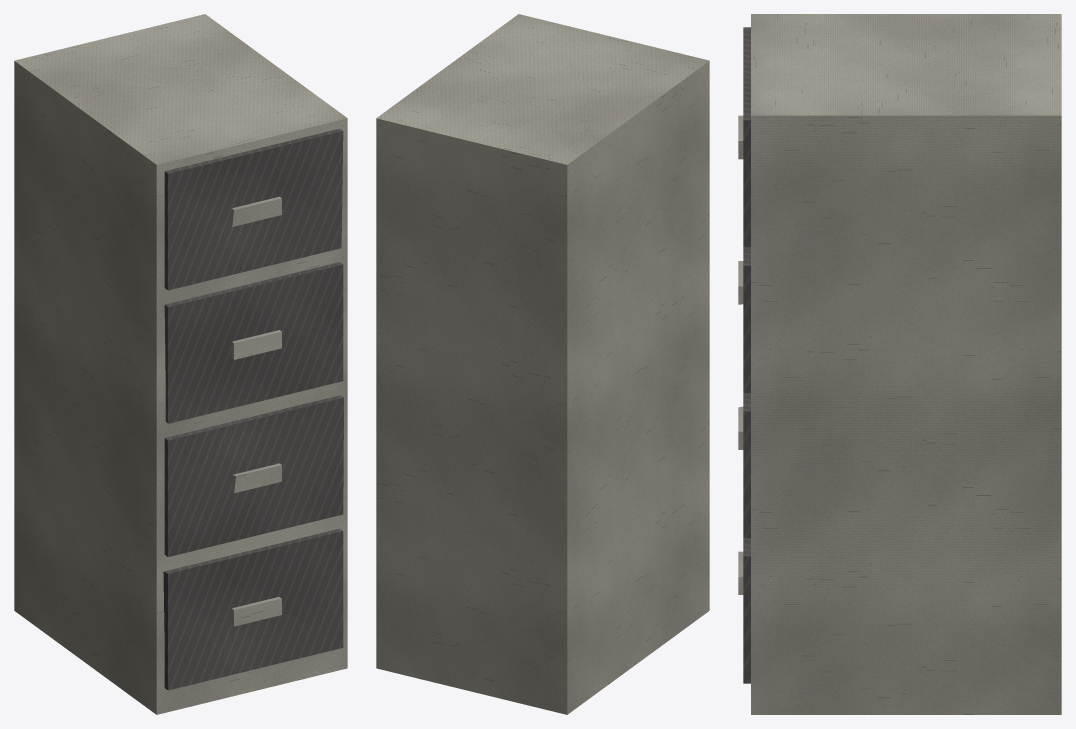
The model's file is cabinet_v2.glb.
The picture shows the model from 3 angles, left to right: view 1: azimuth 30°, elevation 25°; view 2: azimuth 150°, elevation 25°; view 3: azimuth 270°, elevation 25°; orthographic projection. The views are drawn at different scales.
Parts seen in each view (by area): view 1: Variant_cabinet_2; view 2: Variant_cabinet_2; view 3: Variant_cabinet_2.
Boxes of the visible parts, x1=… form: Variant_cabinet_2: x1=14, y1=14, x2=347, y2=714; Variant_cabinet_2: x1=376, y1=14, x2=709, y2=714; Variant_cabinet_2: x1=738, y1=14, x2=1061, y2=714.
Bounding box in the file's own units: 0.48 × 1.32 × 0.645.
Materials: 2 (2 with a texture image).
